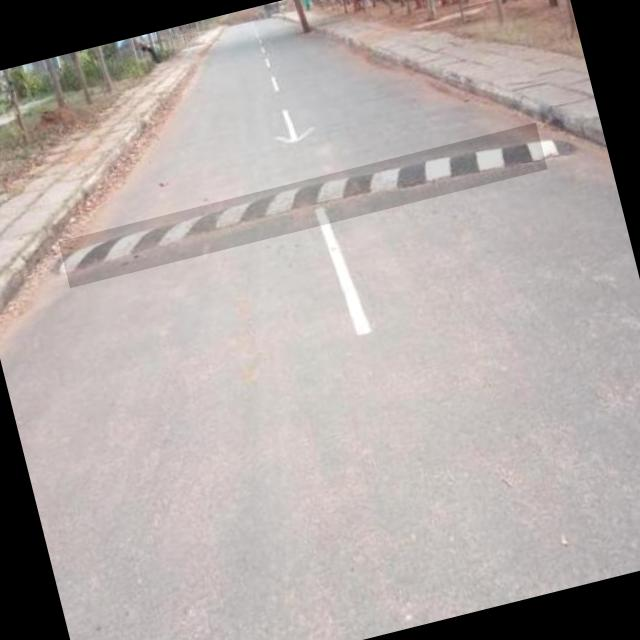bump: (58, 122, 547, 288)
